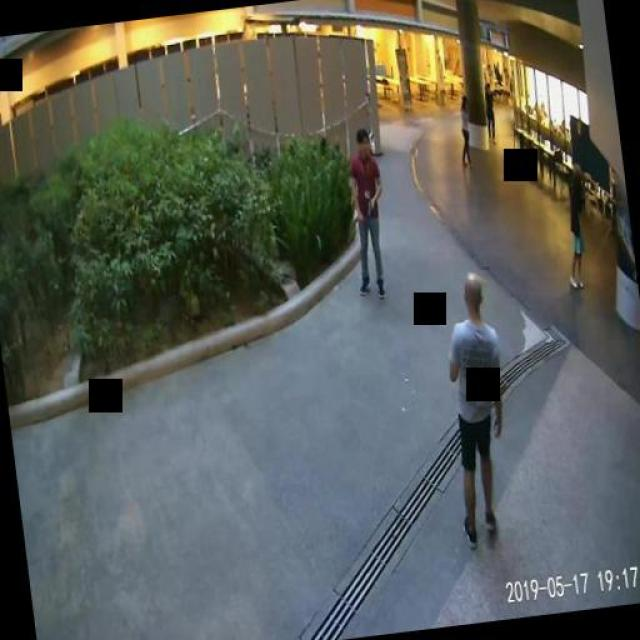gun: (364, 196, 376, 215)
